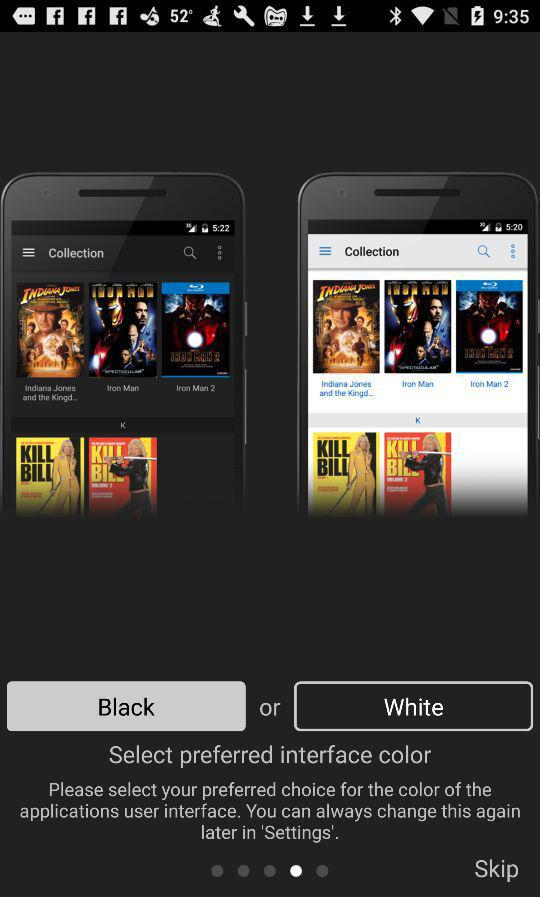Image: (1, 171, 246, 521), (297, 171, 540, 522)
PageIndicator: (210, 863, 330, 879)
Text: (20, 781, 521, 844), (109, 744, 433, 769), (474, 857, 519, 883), (259, 701, 282, 718)
TextButton: (7, 681, 247, 732), (294, 681, 534, 732)
UpperTaskBar: (1, 1, 540, 33)
